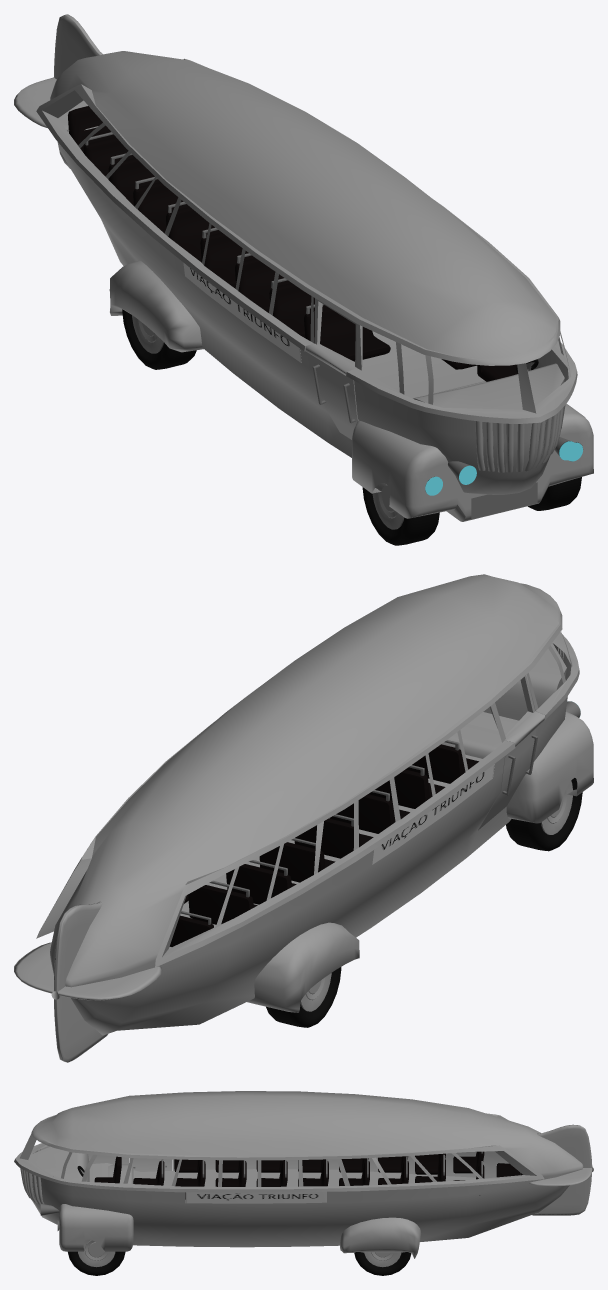
The model's file is Zeppelin.FBX.
The picture shows the model from 3 angles, top to bottom: view 1: azimuth 30°, elevation 25°; view 2: azimuth 150°, elevation 25°; view 3: azimuth 270°, elevation 25°; orthographic projection. The views are drawn at different scales.
Visible parts, largest first — view 1: Box001; view 2: Box001; view 3: Box001.
Part boxes in pixels (<box>): Box001: <box>14,14,593,545</box>; Box001: <box>14,574,593,1062</box>; Box001: <box>14,1091,593,1275</box>.
Size of the model in its own units: 75.25 by 88.65 by 299.
